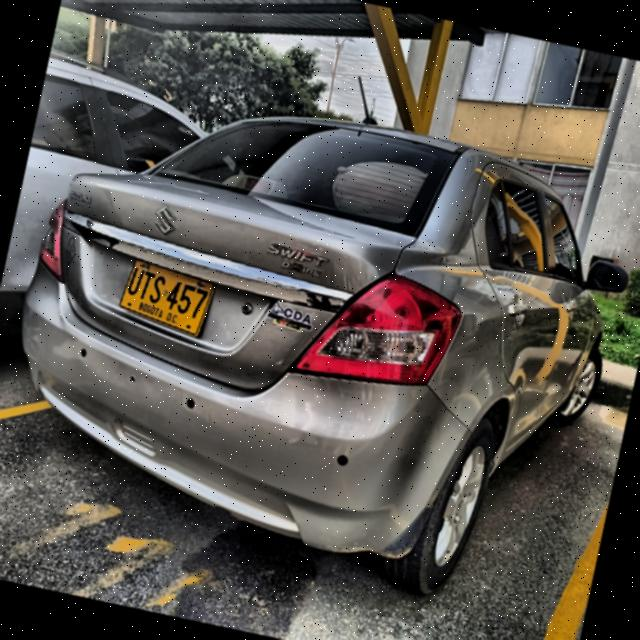4: (162, 279, 184, 312)
5: (175, 282, 197, 317)
7: (188, 286, 209, 321)
S: (146, 273, 168, 305)
T: (135, 270, 156, 301)
U: (124, 266, 146, 297)
